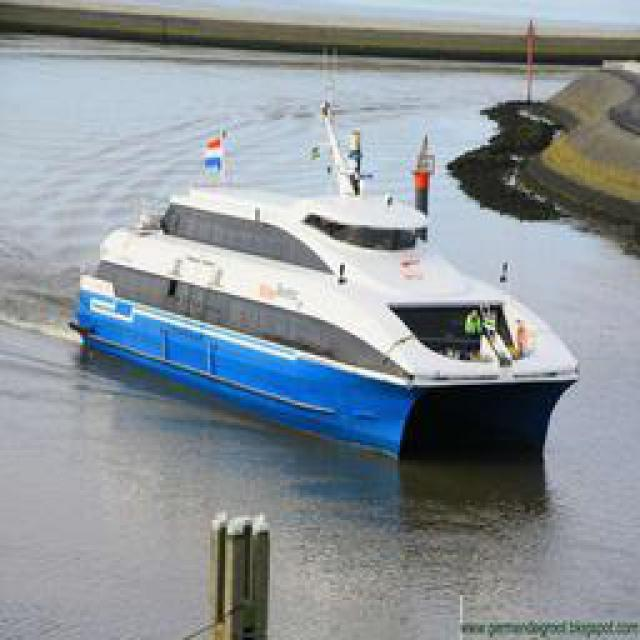Ship: (72, 141, 580, 464)
